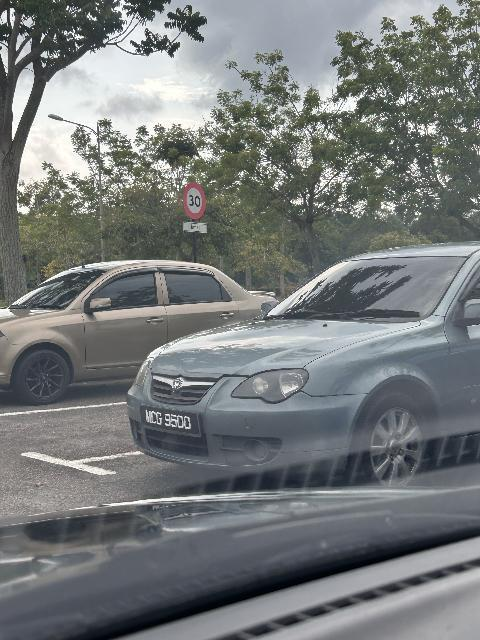License_Plate: (136, 403, 205, 442)
MCG9500: (136, 403, 205, 442)
car: (132, 248, 480, 487), (2, 254, 275, 411)
